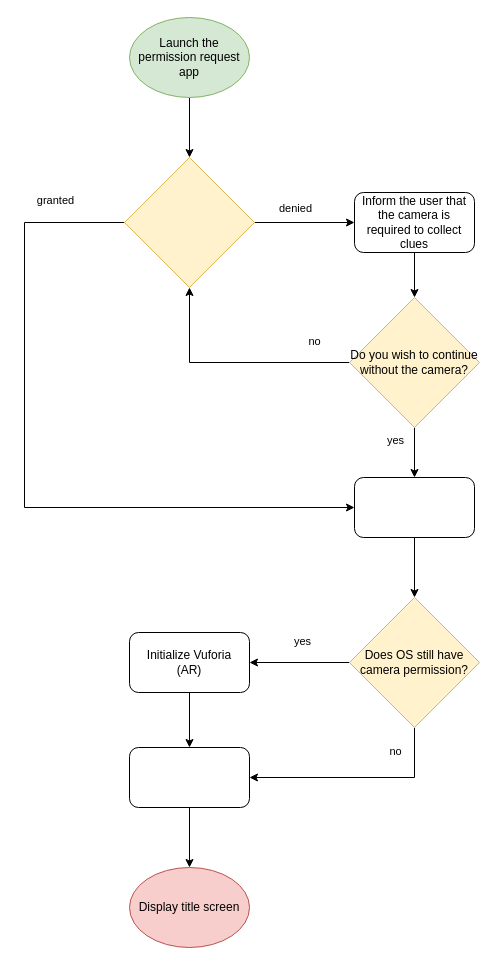
The diagram is 497 pixels wide and 965 high, and some of its shapes have lost their labels. Each missing label, with the centre of its shape:
"Ask for camera permission" belongs at (189,222).
"Initialize Unity (Engine)" belongs at (414,507).
"Load Resources" belongs at (189,777).
